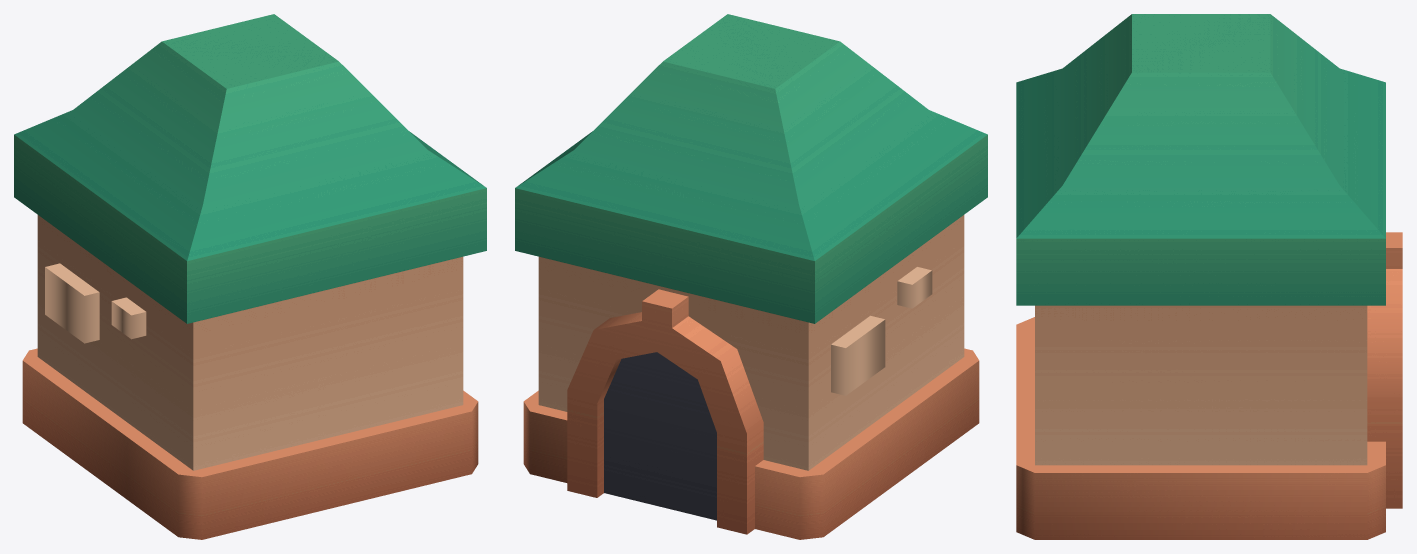
File: ride-exit.glb
3 renders of one model, left to right at view 1: azimuth 30°, elevation 25°; view 2: azimuth 150°, elevation 25°; view 3: azimuth 270°, elevation 25°, orthographic. The views are drawn at different scales.
Visible parts, largest first — view 1: ride-exit; view 2: ride-exit, OuterShell; view 3: ride-exit, OuterShell.
Part boxes in pixels (x1=…): ride-exit: x1=14, y1=14, x2=486, y2=539; ride-exit: x1=515, y1=14, x2=987, y2=539; OuterShell: x1=567, y1=289, x2=763, y2=534; ride-exit: x1=1016, y1=14, x2=1385, y2=539; OuterShell: x1=1367, y1=232, x2=1402, y2=508.
Bounding box in the file's own units: 1 × 1.25 × 1.04.
1 material, 1 textured.
